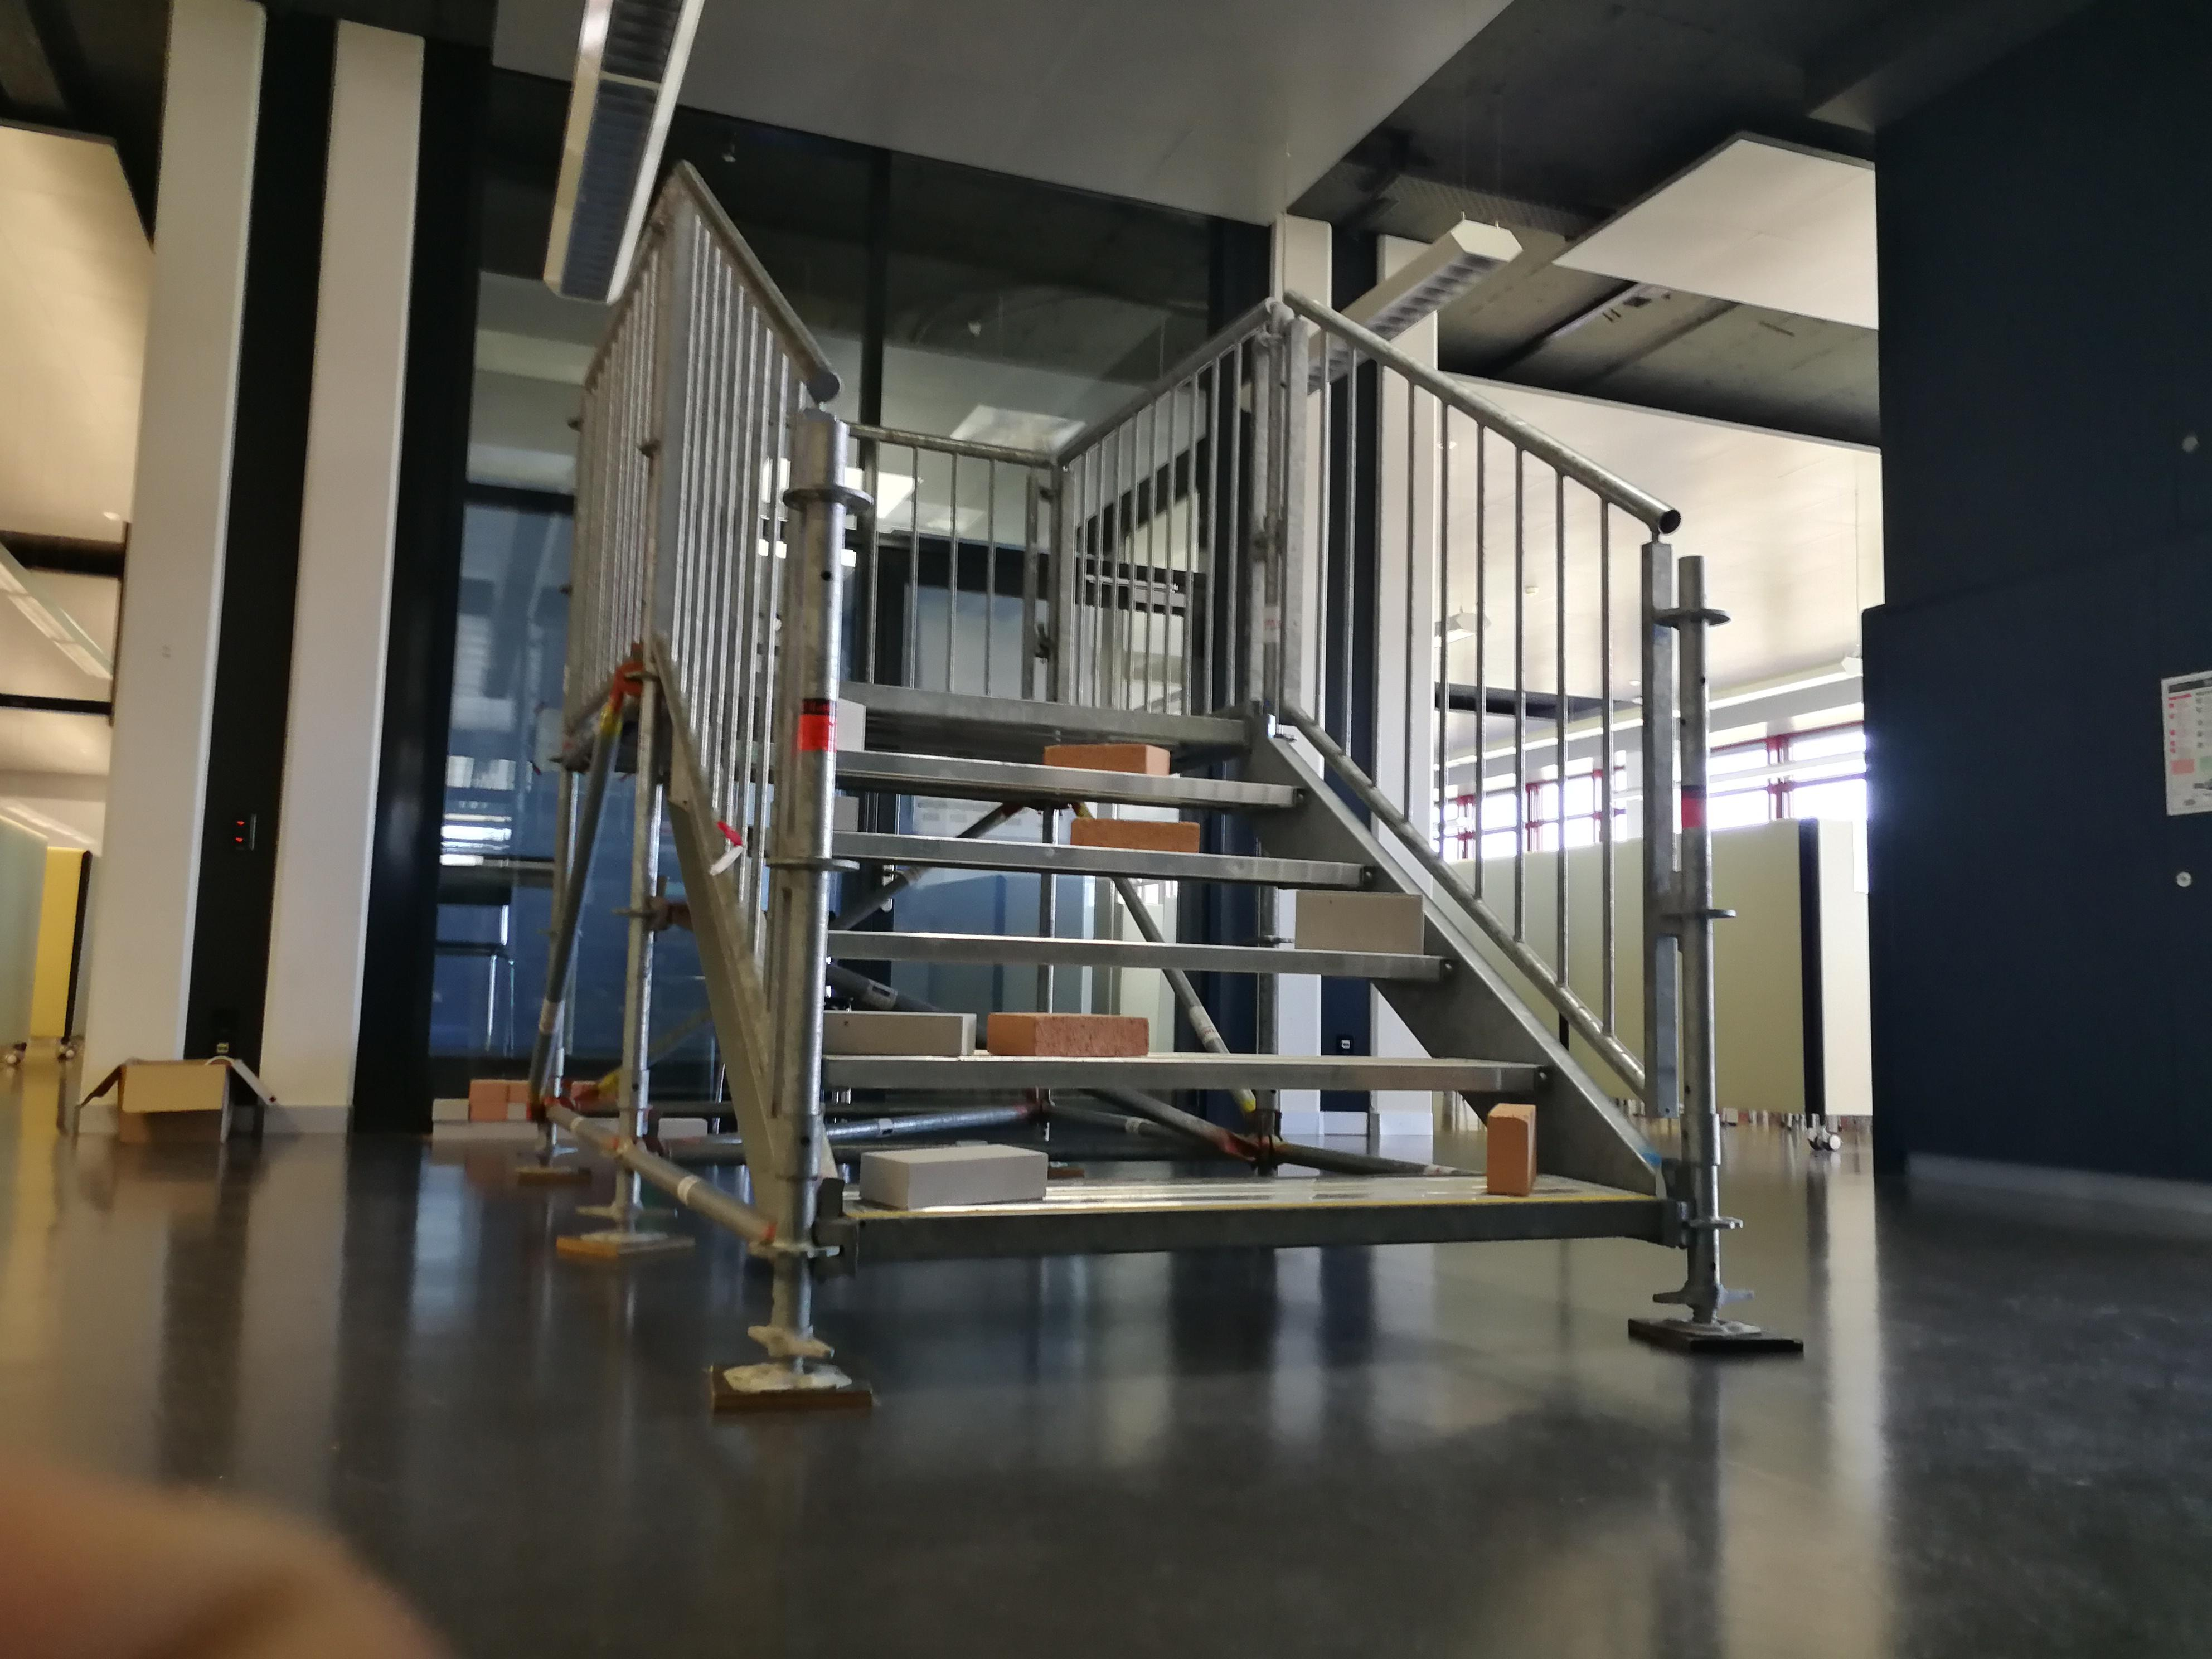brick: (859, 1145, 1045, 1209), (1292, 890, 1420, 953), (822, 1007, 974, 1056), (988, 1014, 1148, 1056), (1075, 814, 1197, 856), (1043, 742, 1167, 777), (1486, 1103, 1534, 1190), (836, 699, 862, 751), (833, 791, 859, 829)
edge: (855, 1199, 1667, 1269), (815, 934, 1461, 979), (838, 681, 1256, 744), (826, 829, 1379, 877), (826, 753, 1310, 803), (817, 1061, 1547, 1087)
stairs: (705, 174, 1799, 1417)
steps: (813, 666, 1679, 1300)
